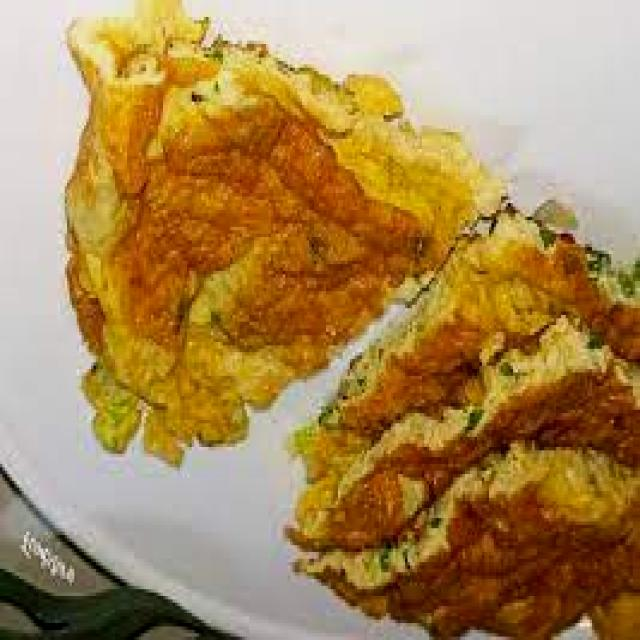telur dadar: (65, 0, 503, 464)
